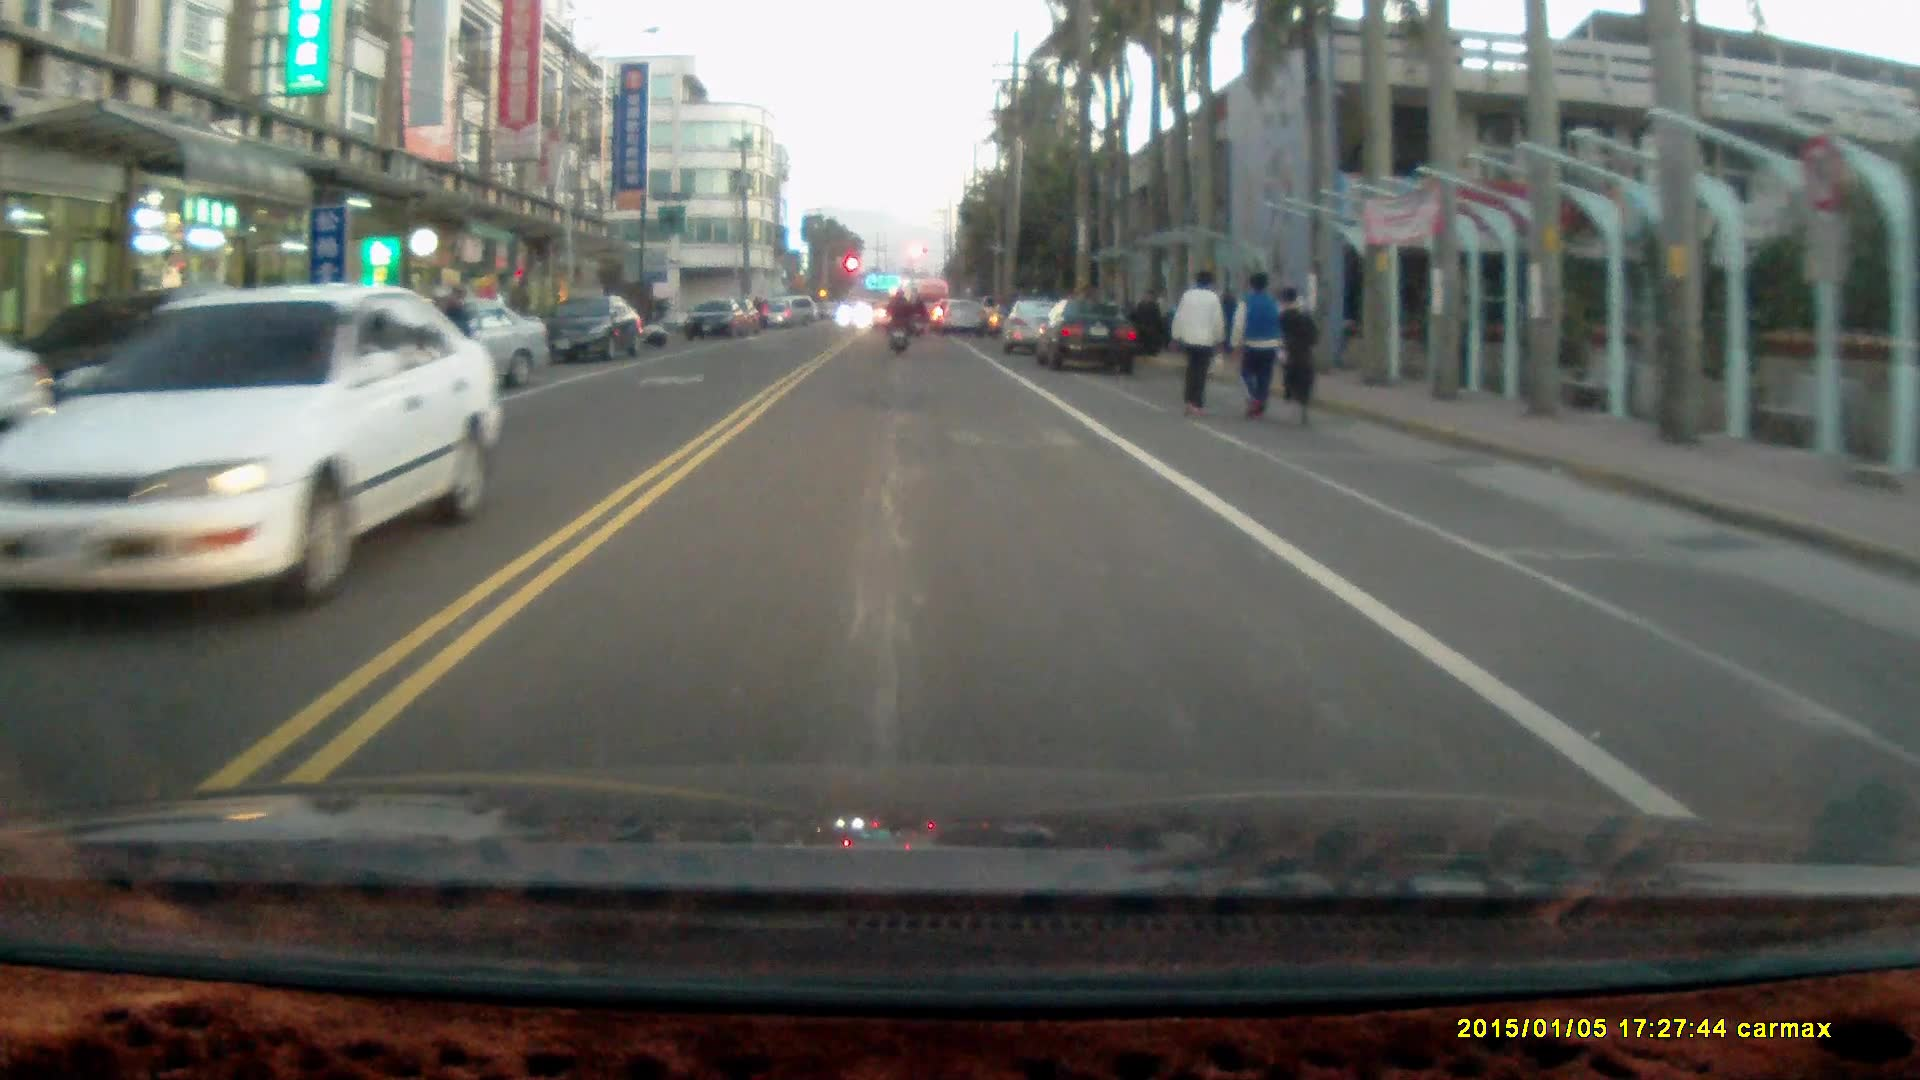pedestrian: (1229, 266, 1283, 423), (1169, 267, 1223, 421), (1273, 285, 1320, 428)
rider: (884, 285, 915, 356)
vehicle: (14, 286, 486, 620), (1039, 298, 1142, 376), (540, 295, 641, 368), (1003, 300, 1090, 361), (684, 297, 749, 340)
